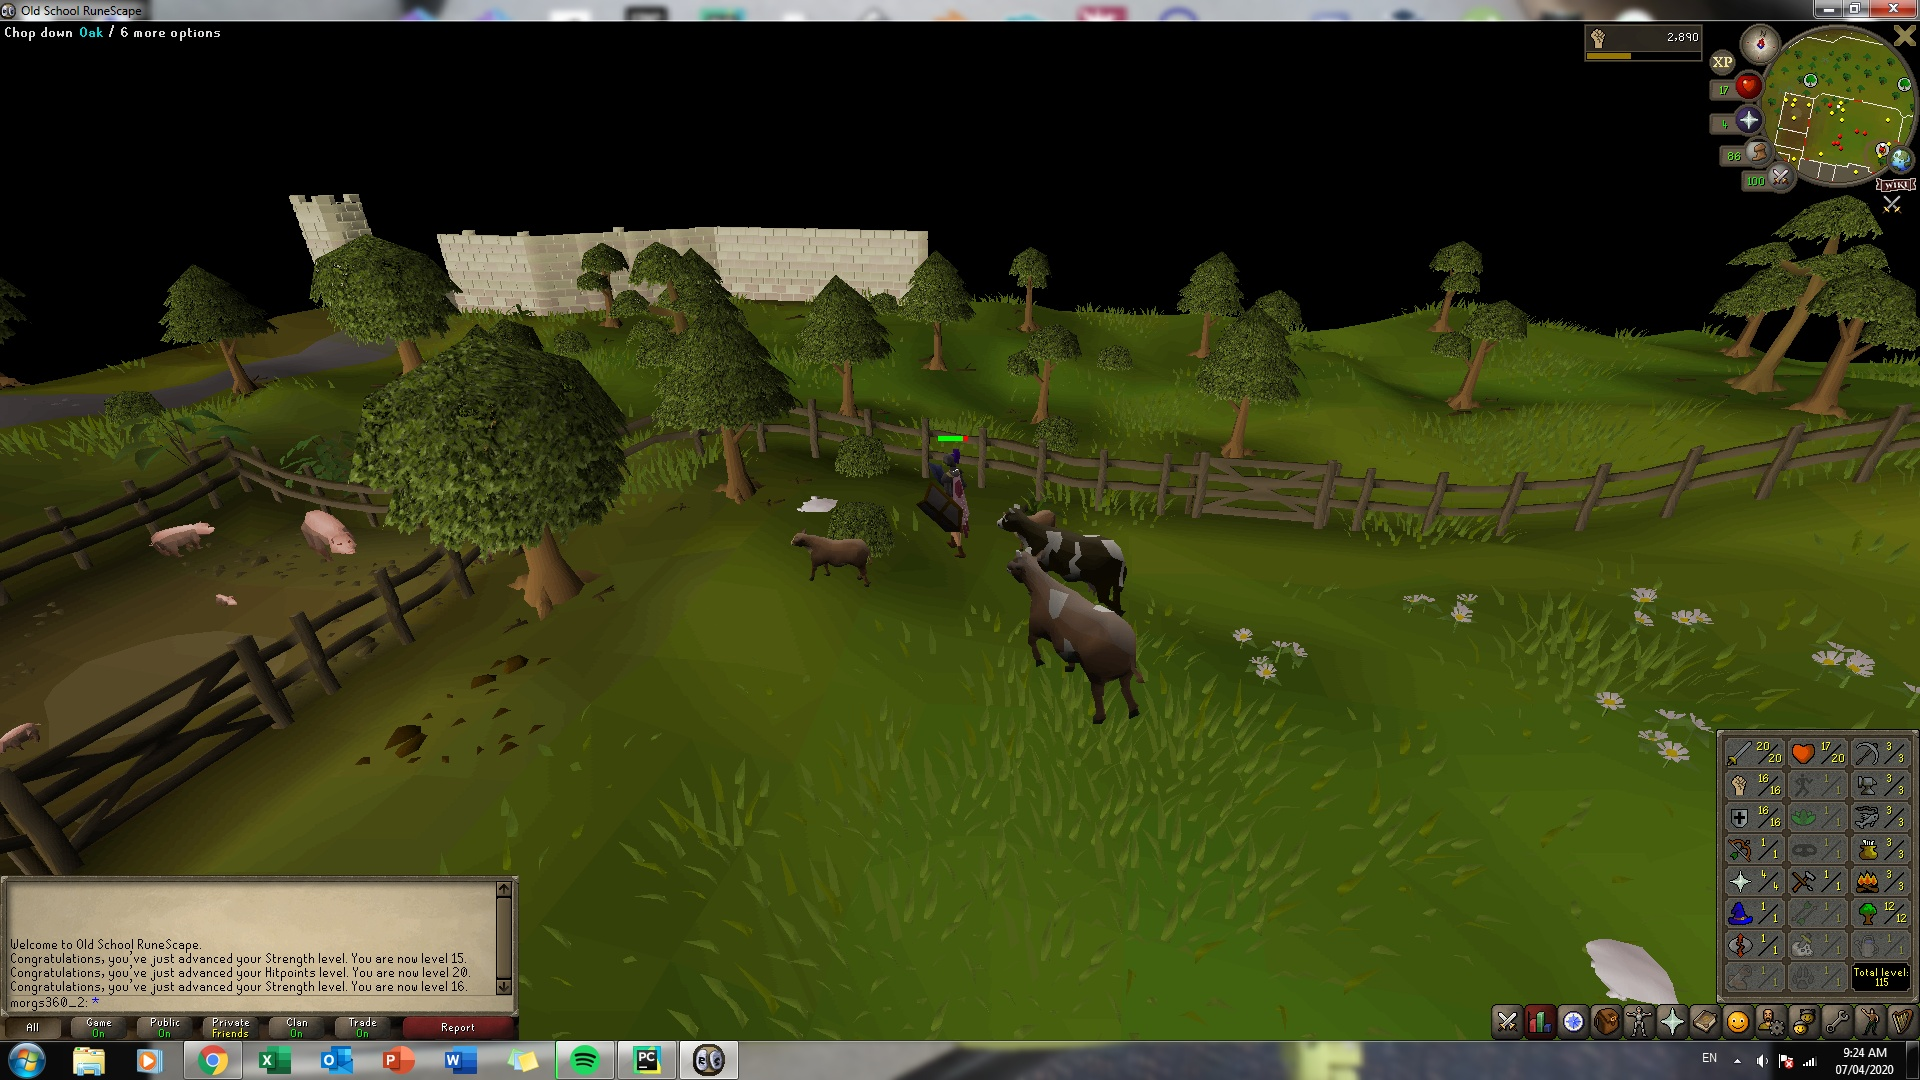cow: (1004, 547, 1145, 724), (996, 501, 1127, 621)
